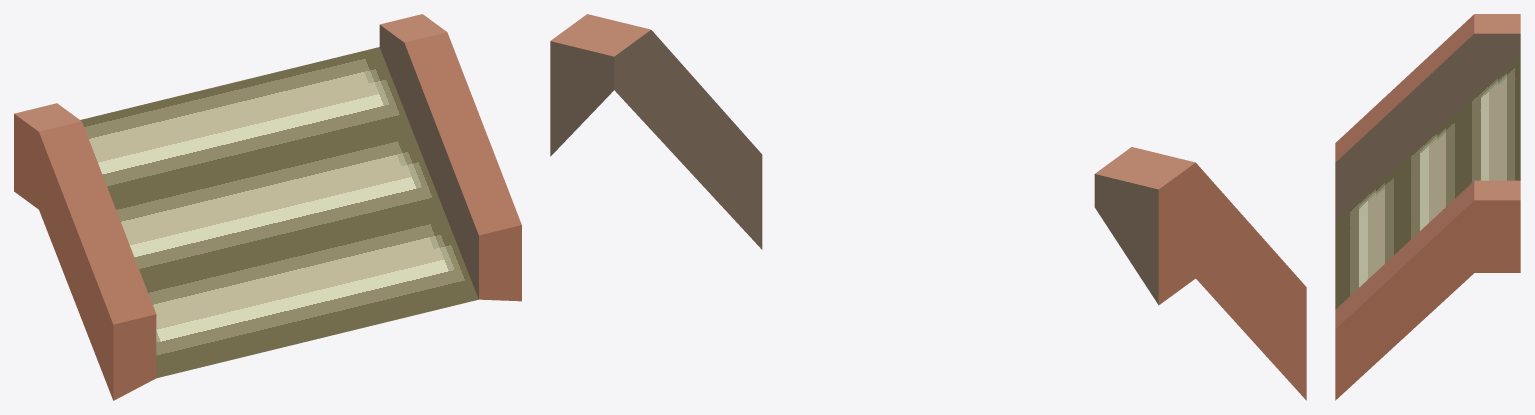
File: stairs.glb
3 views of the same model, side by side, from view 1: azimuth 30°, elevation 25°; view 2: azimuth 150°, elevation 25°; view 3: azimuth 270°, elevation 25° (orthographic). The views are drawn at different scales.
Bounding box in the file's own units: 2.38 × 1.19 × 1.
1 material, 1 textured.
